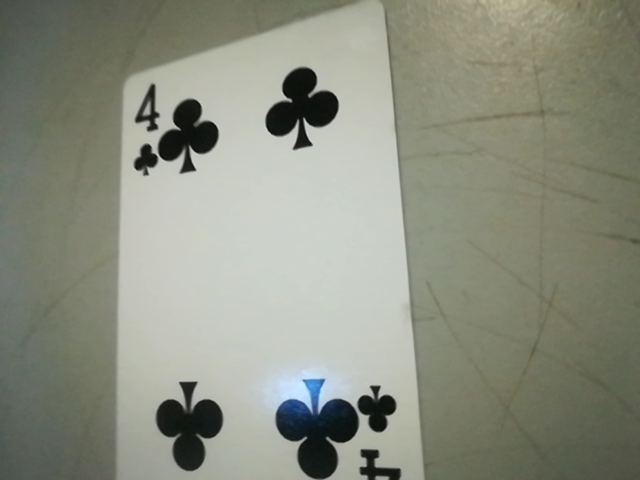mh 4: (346, 374, 419, 480), (121, 81, 176, 182)
